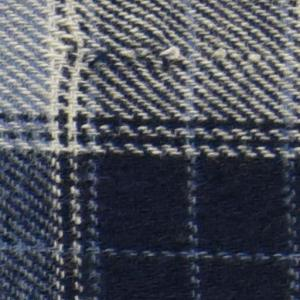Damage: (56, 39, 194, 84), (209, 47, 270, 66)
